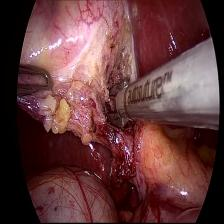Clipper: (102, 77, 134, 131)
Grasper: (15, 63, 53, 104)
